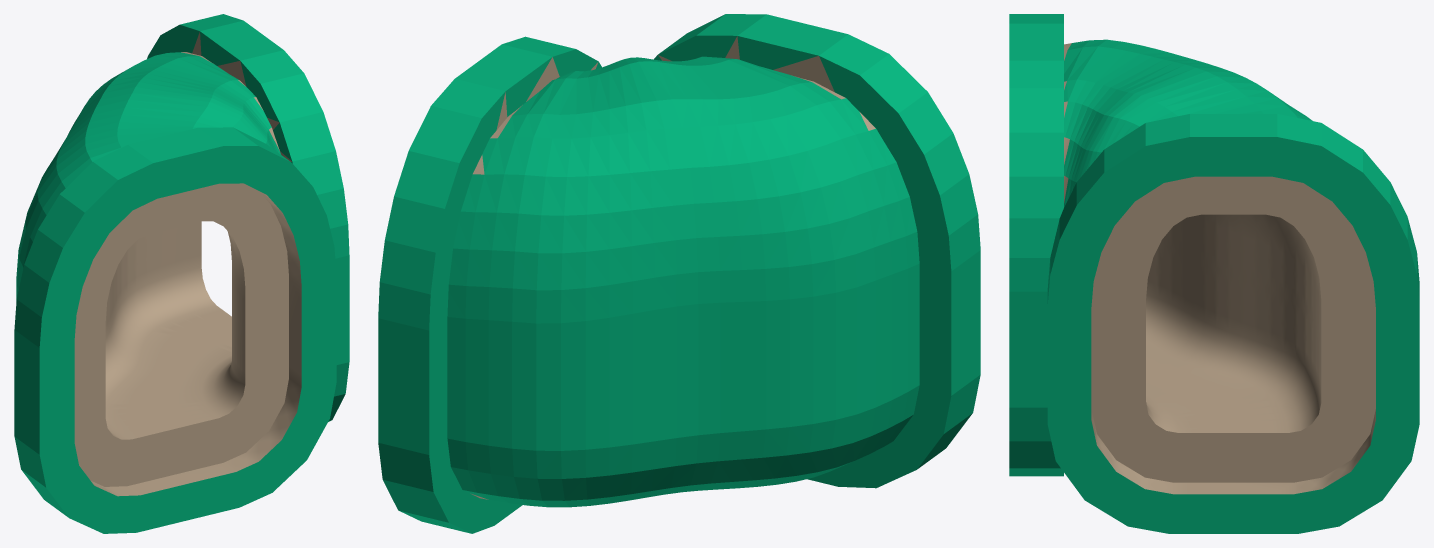
File: TT_Turn90_A.fbx
The picture shows the model from 3 angles, left to right: view 1: azimuth 30°, elevation 25°; view 2: azimuth 150°, elevation 25°; view 3: azimuth 270°, elevation 25°; orthographic projection. The views are drawn at different scales.
Visible parts, largest first — view 1: TT_Turn90_A_LOD0; view 2: TT_Turn90_A_LOD0; view 3: TT_Turn90_A_LOD0.
Boxes of the visible parts, <box> form: TT_Turn90_A_LOD0: <box>14,14,349,533</box>; TT_Turn90_A_LOD0: <box>378,14,980,533</box>; TT_Turn90_A_LOD0: <box>1009,14,1419,533</box>.
Bounding box in the file's own units: 375 × 400 × 375.
